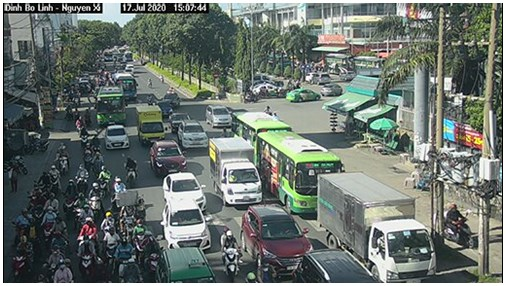xe_buyt: (255, 131, 344, 215), (96, 85, 125, 126)
xe_hoi: (242, 203, 313, 278), (159, 198, 211, 248), (162, 172, 206, 209), (150, 138, 188, 175), (177, 118, 207, 151), (203, 102, 232, 128), (106, 123, 131, 151), (168, 111, 191, 134)
xe_may: (445, 202, 478, 251), (218, 228, 244, 283), (75, 235, 100, 278), (99, 226, 120, 273), (10, 236, 31, 278), (14, 207, 36, 245), (44, 243, 66, 275), (122, 155, 141, 187), (87, 181, 104, 216), (109, 177, 127, 210), (40, 207, 56, 243), (75, 216, 98, 241), (61, 179, 76, 215), (120, 257, 140, 283), (55, 140, 70, 173), (58, 255, 71, 286), (27, 181, 41, 207), (91, 150, 102, 177), (77, 125, 89, 148)
xe_tai: (312, 172, 441, 282), (206, 134, 261, 207), (135, 103, 166, 147)
